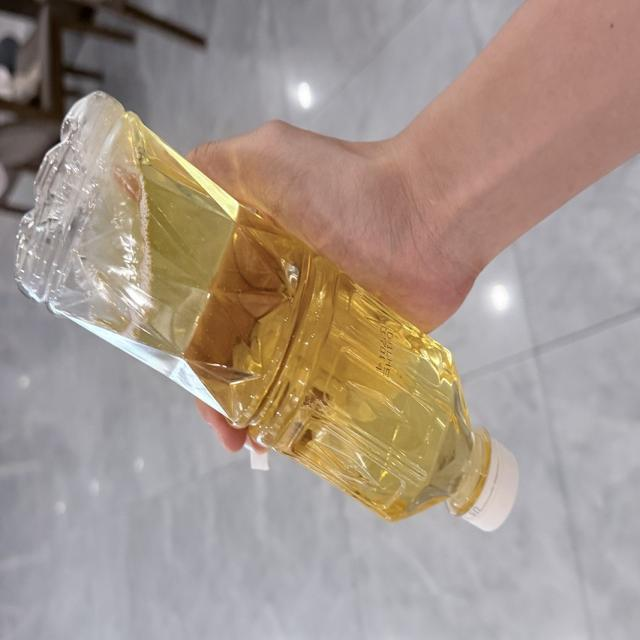high: (15, 92, 516, 529)
